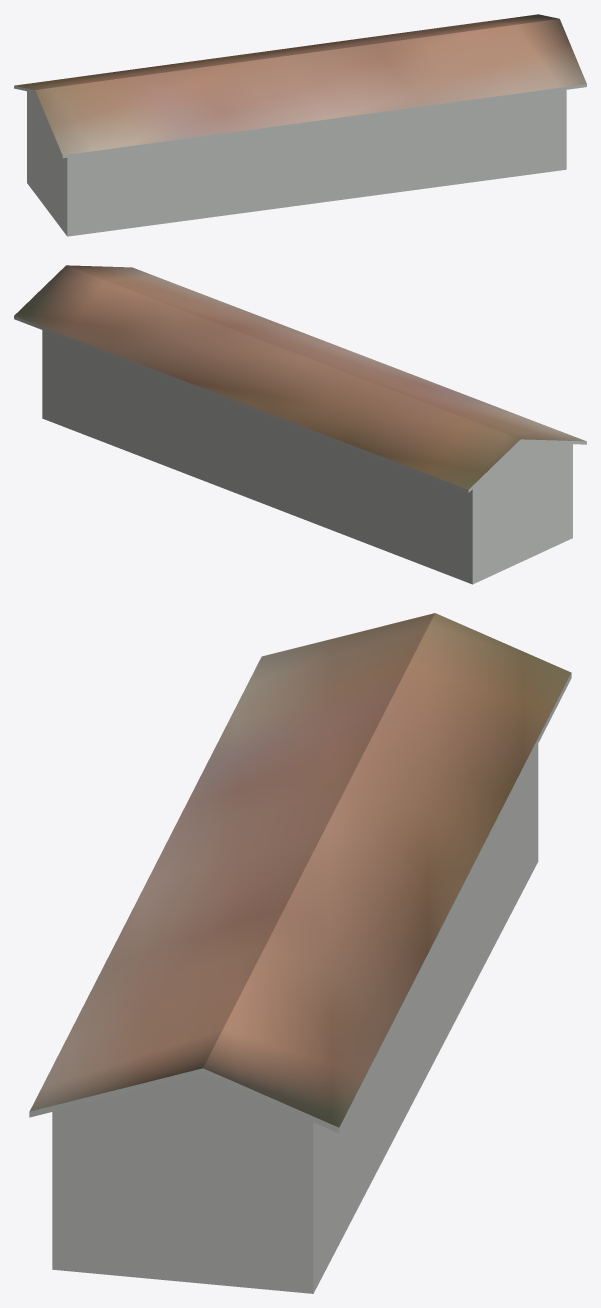
The model's file is LSMP_0_0.glb.
3 views of the same model, one above another, from view 1: azimuth 30°, elevation 25°; view 2: azimuth 150°, elevation 25°; view 3: azimuth 270°, elevation 25° (orthographic). The views are drawn at different scales.
Parts seen in each view (by area): view 1: building_0f388826c31d83a4, building_04200bbc37dd5780; view 2: building_0f388826c31d83a4, building_04200bbc37dd5780; view 3: building_04200bbc37dd5780, building_0f388826c31d83a4.
Part boxes in pixels (x1=…): building_0f388826c31d83a4: x1=27, y1=90, x2=566, y2=236; building_04200bbc37dd5780: x1=14, y1=14, x2=586, y2=158; building_0f388826c31d83a4: x1=42, y1=330, x2=572, y2=584; building_04200bbc37dd5780: x1=14, y1=265, x2=586, y2=492; building_04200bbc37dd5780: x1=29, y1=613, x2=571, y2=1133; building_0f388826c31d83a4: x1=52, y1=744, x2=538, y2=1293.
Size of what is drawn, in the model's own units: 35.36 by 7.9 by 16.75.
2 materials, 1 textured.
